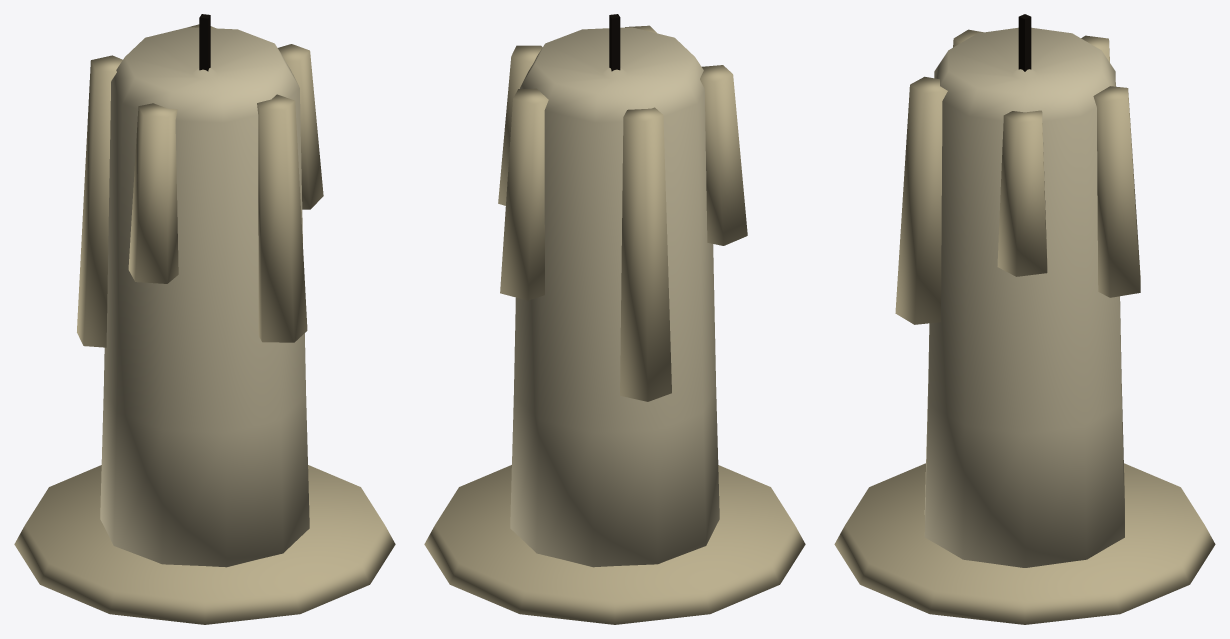
The model's file is candle-stub.glb.
The picture shows the model from 3 angles, left to right: view 1: azimuth 30°, elevation 25°; view 2: azimuth 150°, elevation 25°; view 3: azimuth 270°, elevation 25°; orthographic projection.
Visible parts, largest first — view 1: candle-stub-wax, candle-stub-dark; view 2: candle-stub-wax, candle-stub-dark; view 3: candle-stub-wax, candle-stub-dark.
Part boxes in pixels (left/top/right/bottom): candle-stub-wax: left=14, top=24, right=395, bottom=624; candle-stub-dark: left=199, top=14, right=210, bottom=71; candle-stub-wax: left=424, top=25, right=805, bottom=624; candle-stub-dark: left=609, top=14, right=620, bottom=71; candle-stub-wax: left=834, top=27, right=1215, bottom=624; candle-stub-dark: left=1018, top=14, right=1031, bottom=71.
Size of the model in its own units: 0.18 by 0.275 by 0.18.
